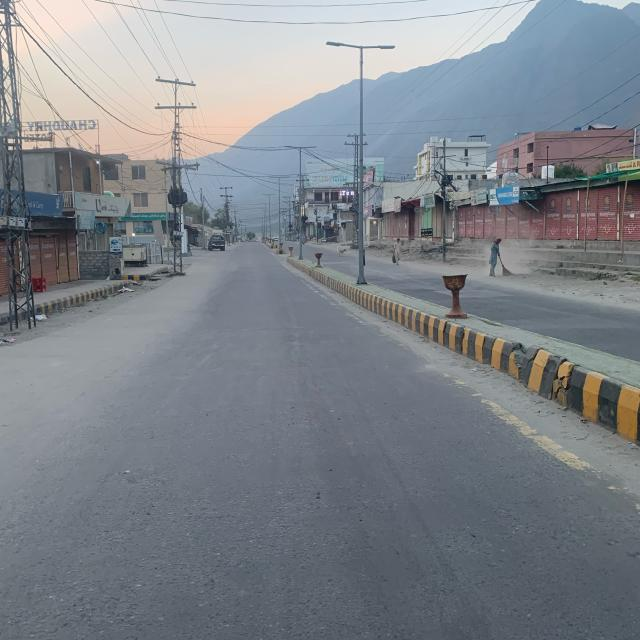straight: (234, 233, 466, 640)
